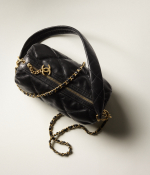channel: (11, 32, 117, 126), (37, 60, 55, 82)
